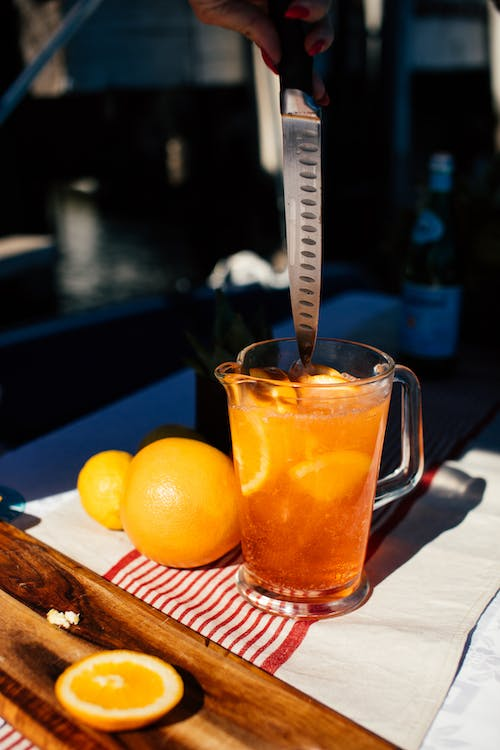knife: (276, 0, 323, 371)
